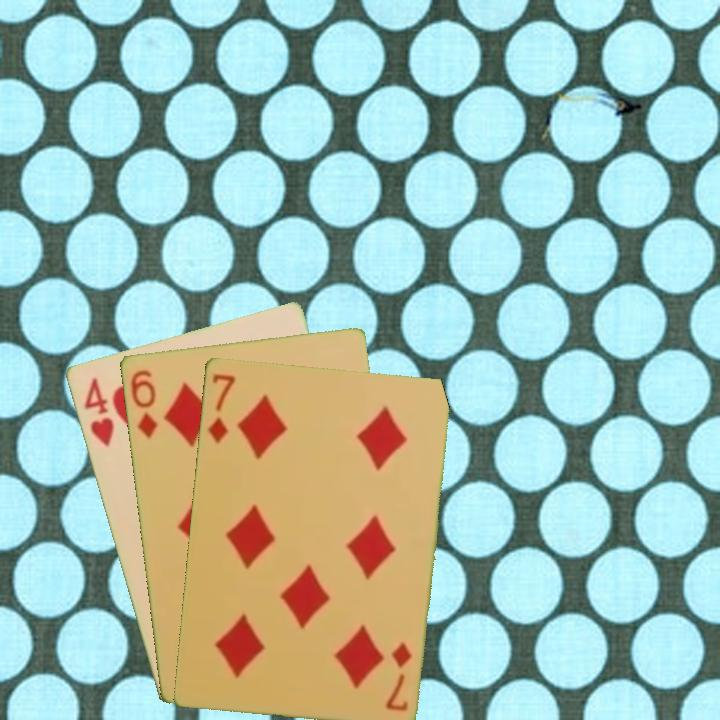4h: (80, 373, 116, 449)
6d: (127, 366, 160, 441)
7d: (204, 370, 238, 446), (382, 638, 414, 713)
